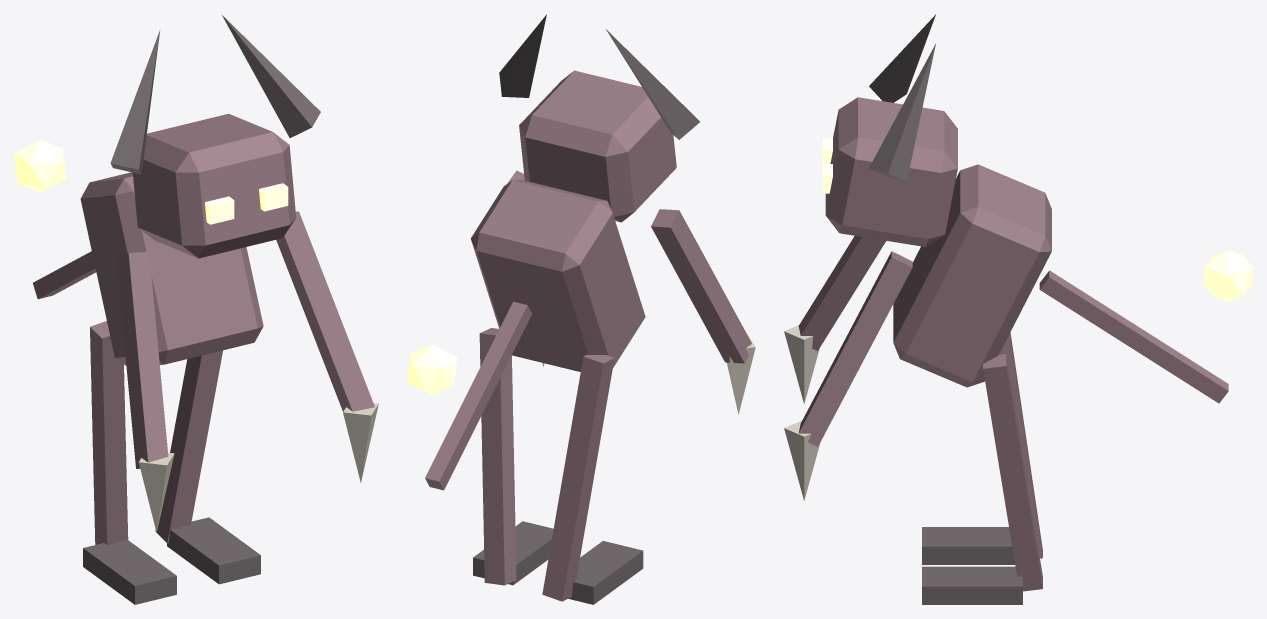
The model's file is EN_Ember_AshImp.fbx.
The picture shows the model from 3 angles, left to right: view 1: azimuth 30°, elevation 25°; view 2: azimuth 150°, elevation 25°; view 3: azimuth 270°, elevation 25°; orthographic projection. The views are drawn at different scales.
Visible parts, largest first — view 1: EN_Ember_AshImp; view 2: EN_Ember_AshImp; view 3: EN_Ember_AshImp.
Boxes of the visible parts, x1,y1,x2,y2 form: EN_Ember_AshImp: (14, 15, 378, 604); EN_Ember_AshImp: (407, 14, 755, 604); EN_Ember_AshImp: (784, 14, 1252, 604).
Size of the model in its own units: 0.8 by 1.79 by 1.39.
